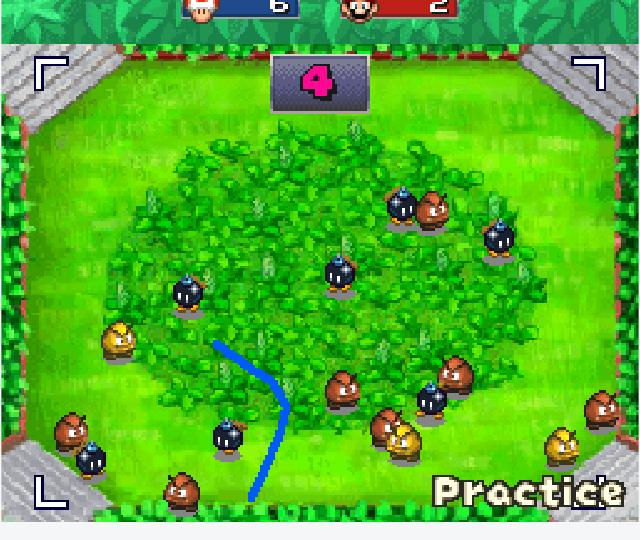bomb: (315, 249, 362, 302), (208, 415, 254, 468), (480, 209, 519, 271), (164, 269, 213, 318), (381, 182, 424, 235), (411, 376, 453, 424), (72, 438, 111, 486)
goomba: (94, 314, 144, 368), (158, 467, 208, 517), (318, 365, 365, 417), (46, 408, 93, 458), (413, 188, 457, 238), (581, 386, 628, 432), (434, 351, 478, 400), (540, 423, 583, 470), (384, 418, 425, 467), (370, 406, 407, 451)
